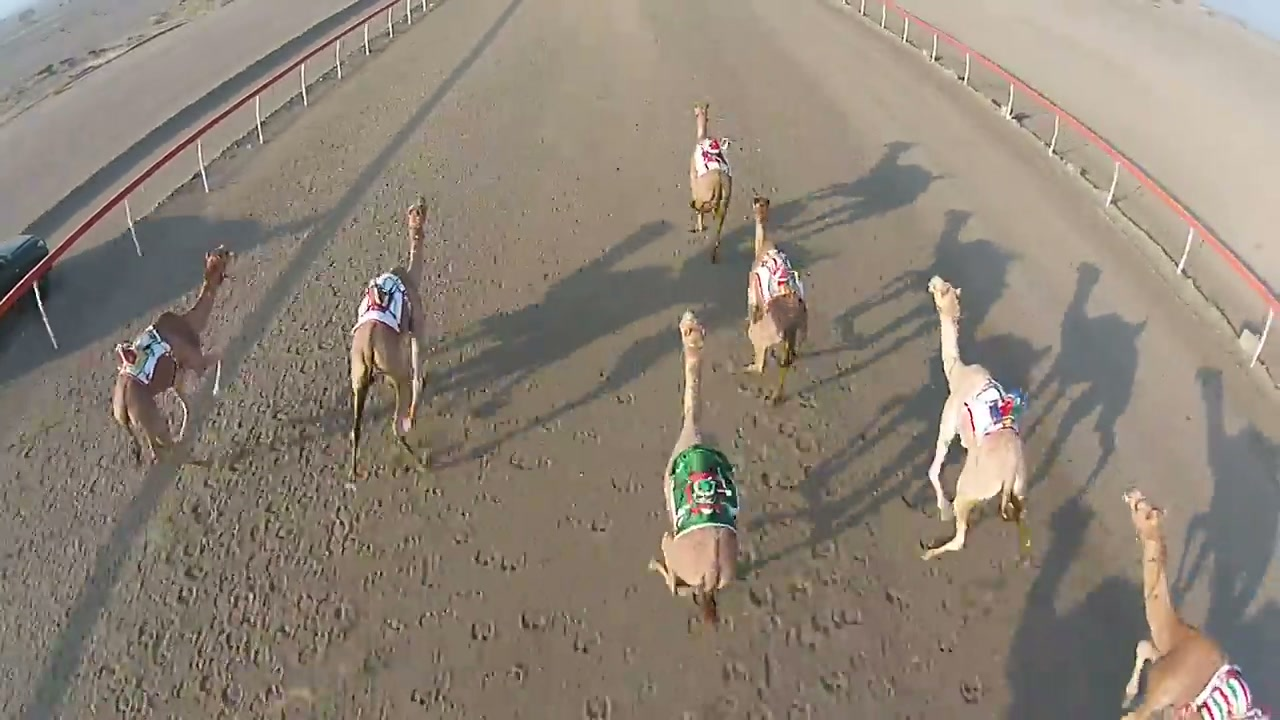animal_footprint: (680, 411, 1010, 719), (131, 418, 289, 719), (466, 498, 646, 719), (352, 453, 448, 709)
